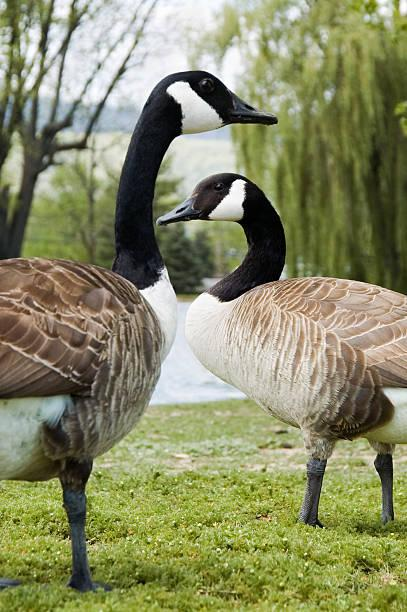Canadian-Goose: (0, 55, 264, 595), (160, 175, 407, 527)
